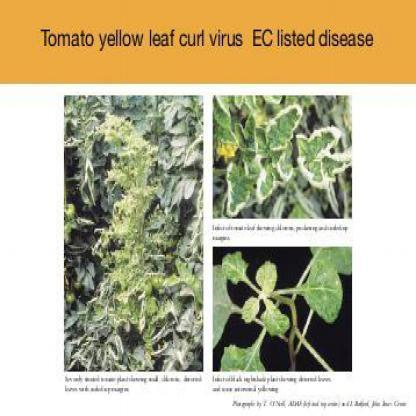Tomato leaf: (299, 255, 351, 327), (298, 125, 348, 192), (266, 100, 306, 152), (223, 158, 256, 216), (251, 260, 282, 301), (252, 158, 280, 202)
